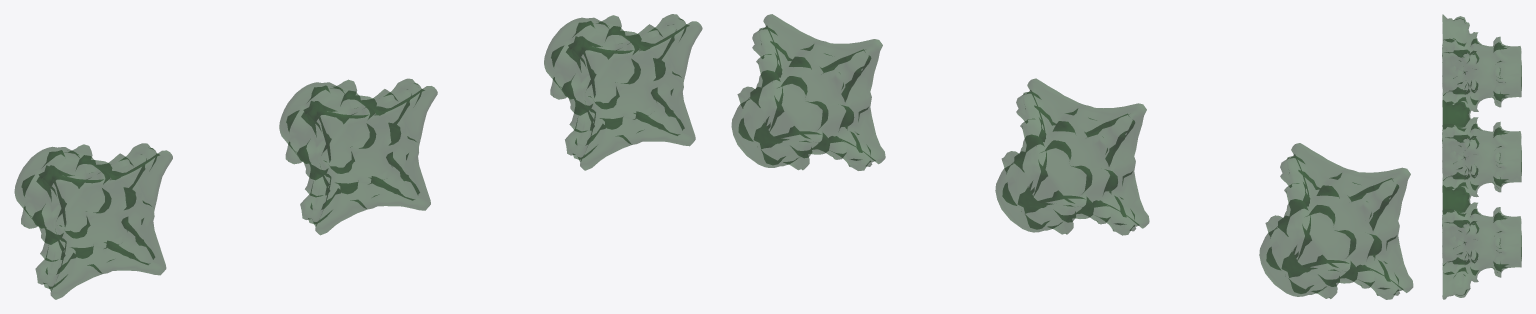
File: USV111.obj
The picture shows the model from 3 angles, left to right: view 1: azimuth 30°, elevation 25°; view 2: azimuth 150°, elevation 25°; view 3: azimuth 270°, elevation 25°; orthographic projection. The views are drawn at different scales.
Visible parts, largest first — view 1: USV111; view 2: USV111; view 3: USV111.
Part boxes in pixels (x1,y1,x2,y2): USV111: [14, 14, 702, 299]; USV111: [731, 14, 1413, 299]; USV111: [1442, 14, 1521, 299].
Bounding box in the file's own units: 5.25 × 0.96 × 0.8455.
